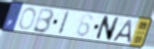6: (75, 13, 95, 38)
A: (111, 19, 133, 44)
B: (31, 7, 55, 34)
I: (56, 10, 71, 37)
N: (94, 15, 121, 42)
O: (18, 7, 37, 32)
